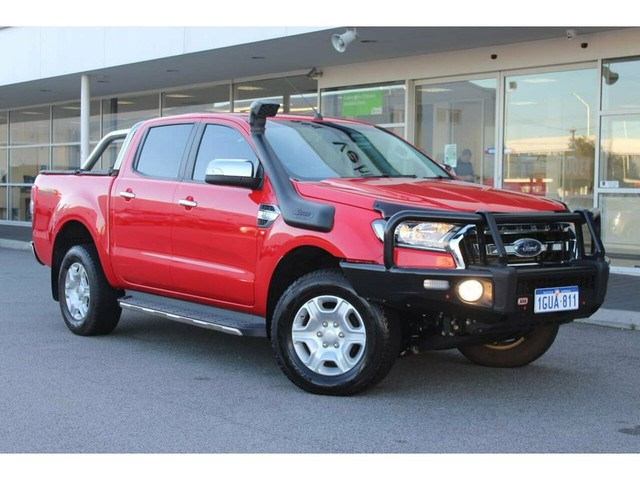Vehicle: (28, 86, 613, 399)
